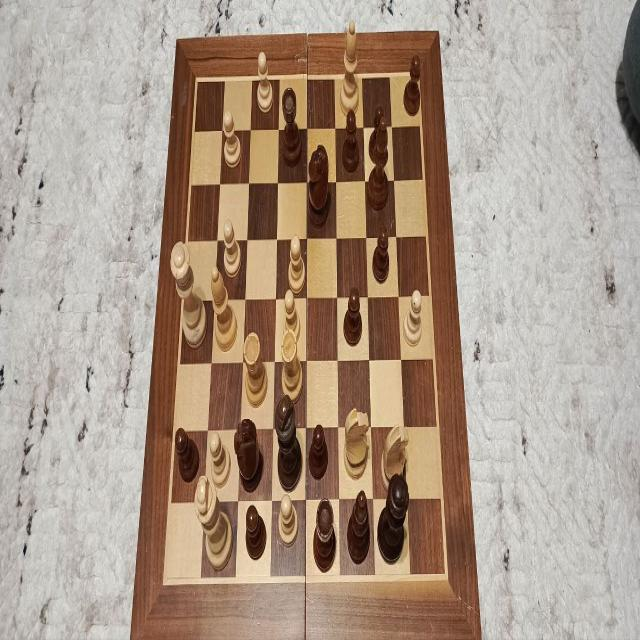black_bishop: (368, 118, 389, 210), (347, 489, 370, 564)
black_king: (275, 394, 303, 492)
black_knight: (234, 418, 262, 492), (309, 144, 329, 227)
black_pawn: (174, 428, 200, 482), (343, 286, 362, 346), (246, 506, 266, 562), (403, 55, 421, 117), (309, 423, 328, 480), (372, 224, 390, 284), (343, 110, 359, 172), (368, 105, 384, 162)
black_queen: (377, 474, 409, 564)
black_rook: (313, 498, 335, 572), (282, 86, 302, 166)
white_bishop: (211, 266, 238, 352), (340, 19, 359, 115)
white_king: (194, 474, 233, 571)
white_knight: (381, 422, 408, 494), (344, 408, 368, 479)
white_pawn: (209, 432, 231, 487), (288, 234, 306, 293), (224, 219, 242, 277), (223, 110, 241, 168), (278, 495, 298, 547), (404, 290, 422, 346), (258, 51, 274, 112), (282, 289, 300, 342)
white_queen: (170, 239, 207, 350)
white_rook: (244, 333, 268, 407), (281, 330, 304, 404)
